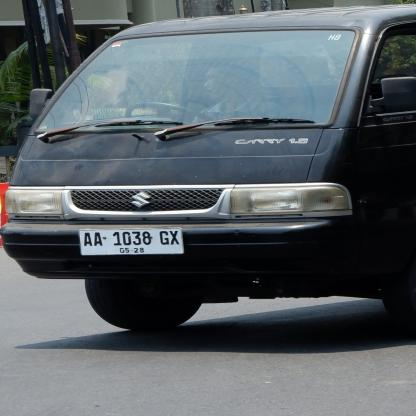Plat-Nomor: (79, 228, 184, 255)
